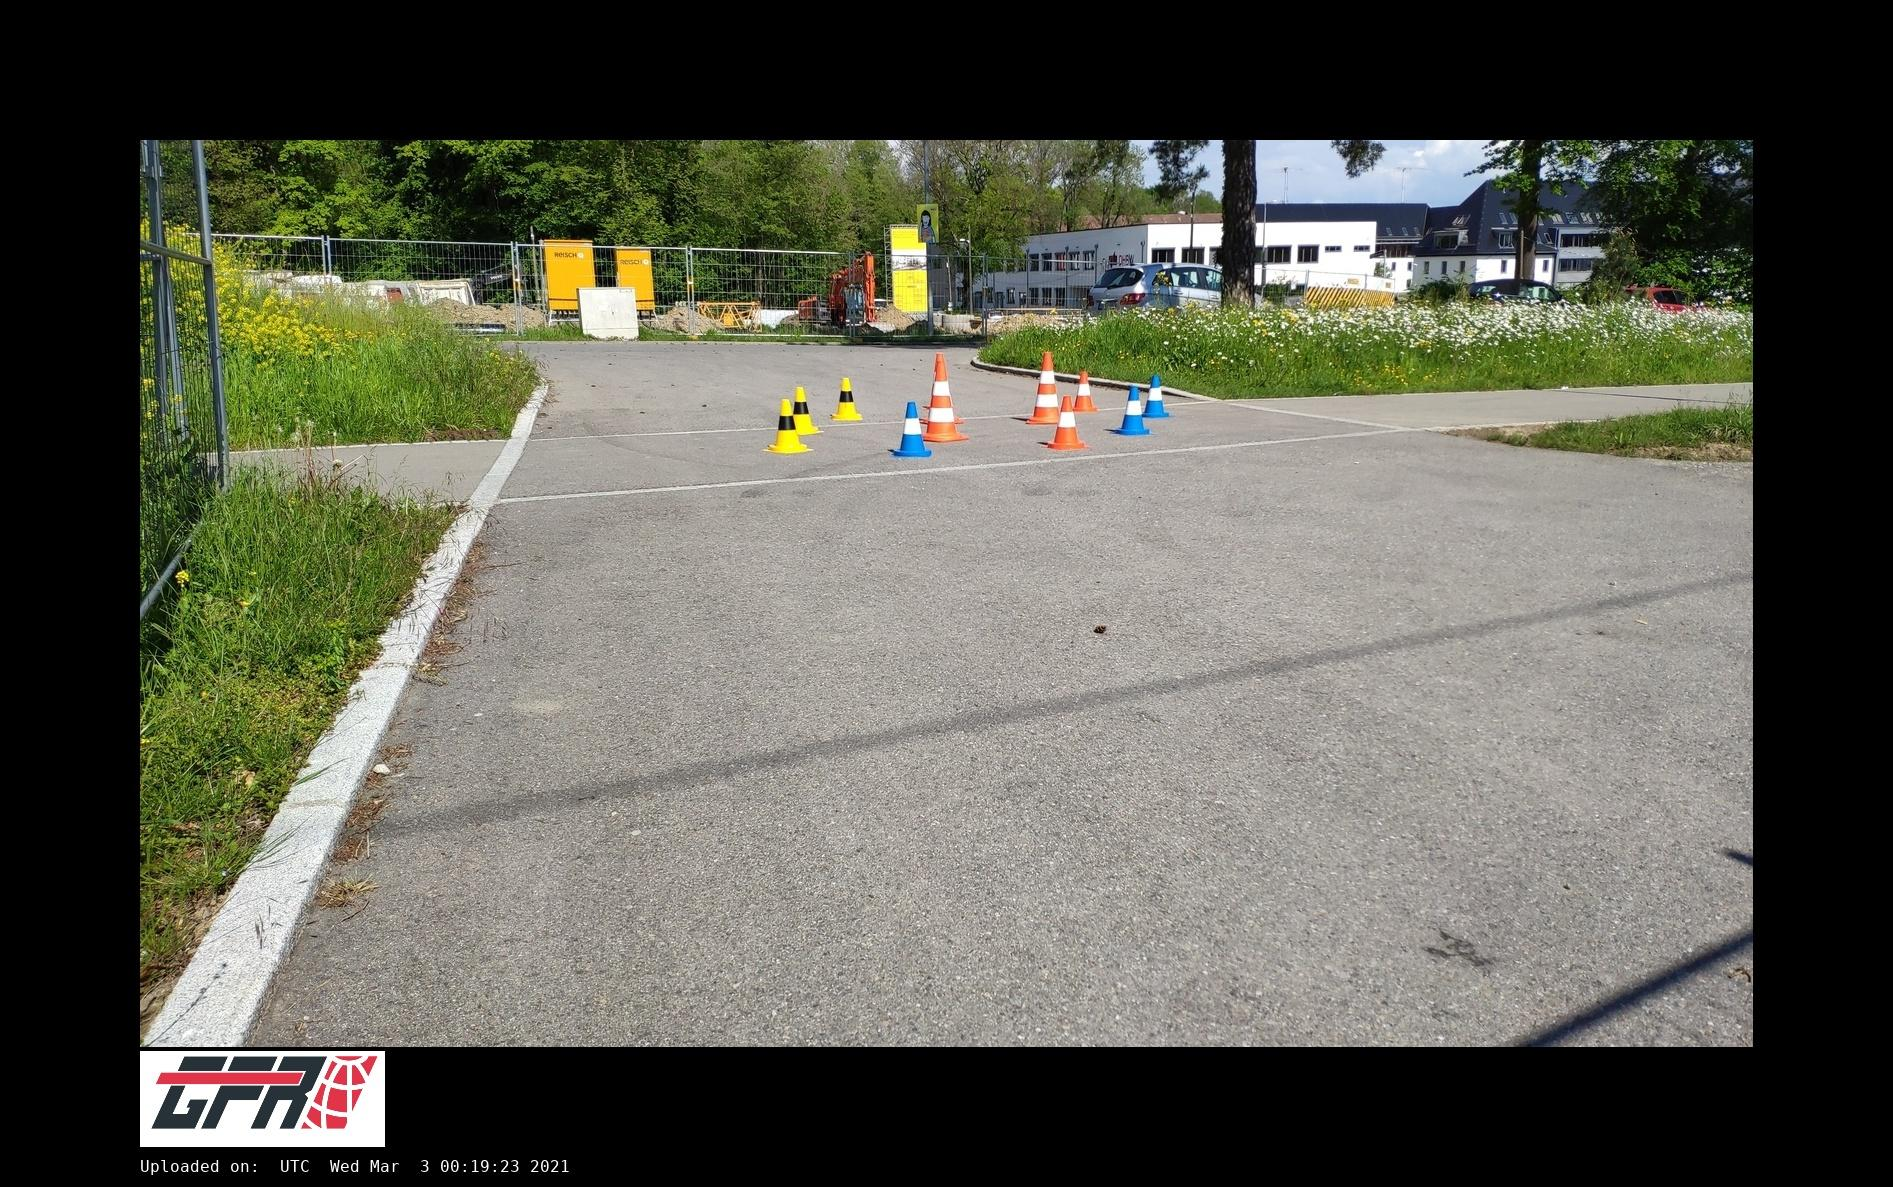blue_cone: (891, 402, 932, 458), (1116, 385, 1152, 436), (1142, 376, 1172, 418)
large_orange_cone: (923, 361, 969, 442), (919, 354, 964, 424), (1026, 352, 1059, 425)
orange_cone: (1042, 395, 1090, 450), (1073, 372, 1098, 412)
yellow_cone: (763, 398, 813, 453), (794, 387, 823, 434), (832, 378, 863, 421)
